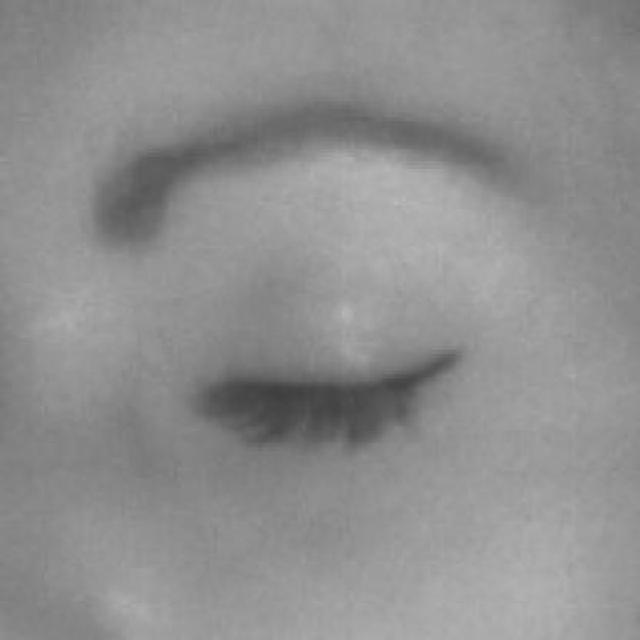drowsy: (212, 272, 463, 508)
